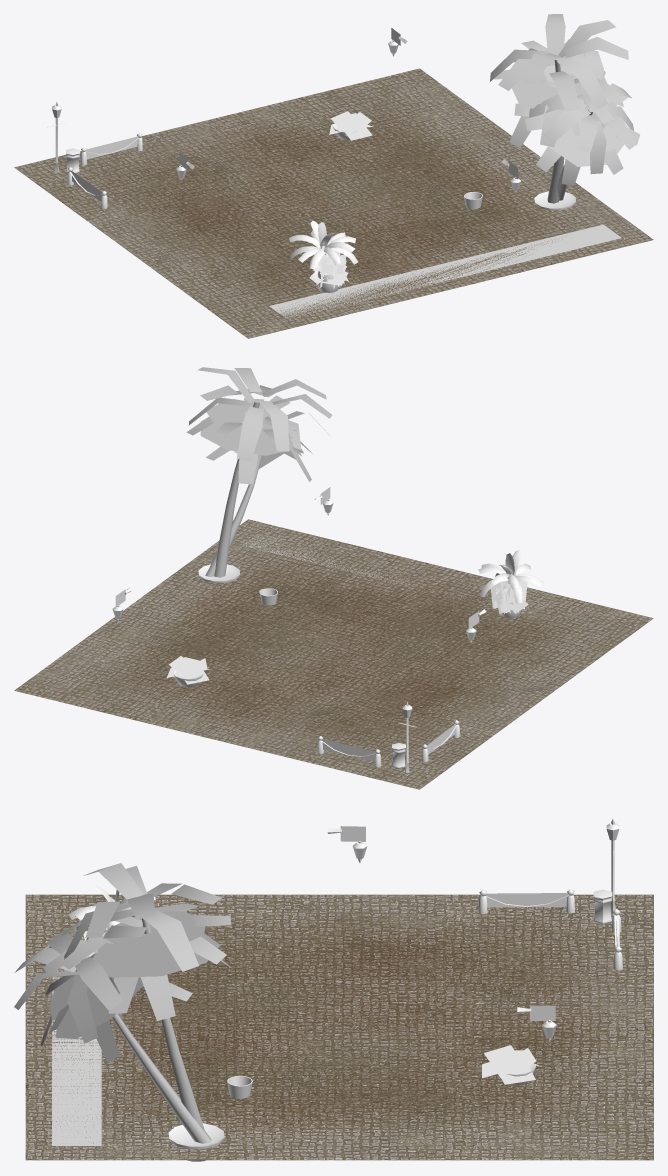
The model's file is propsonly_4.gltf.
3 renders of one model, top to bottom at view 1: azimuth 30°, elevation 25°; view 2: azimuth 150°, elevation 25°; view 3: azimuth 270°, elevation 25°, orthographic. The views are drawn at different scales.
Parts seen in each view (by area): view 1: ground.018, prop_tree1.014, prop_tree1.015, FeedbackBlocker.048, prop_treepot_tree1.008, prop_pot_flower1.013, prop_treepot_bush1.008, prop_chain_fence1.020, prop_chain_fence1.022, prop_pot1.027; view 2: ground.018, prop_tree1.014, prop_tree1.015, prop_treepot_tree1.008, prop_treepot_bush1.008, prop_pot_flower1.013, prop_chain_fence1.020; view 3: ground.018, prop_tree1.014, prop_tree1.015, FeedbackBlocker.048, prop_pot_flower1.013, prop_chain_fence1.022, prop_pot1.027, prop_lamp1.030, prop_lamp1.028, prop_trash1.008, prop_basket1.006, prop_treepot_tree1.008.
Boxes of the visible parts, box(x1,y1,x2,y2) form: ground.018: box(14, 68, 653, 338); prop_tree1.014: box(490, 14, 628, 203); prop_tree1.015: box(514, 50, 640, 200); FeedbackBlocker.048: box(269, 224, 621, 318); prop_treepot_tree1.008: box(289, 220, 358, 269); prop_pot_flower1.013: box(329, 111, 373, 140); prop_treepot_bush1.008: box(309, 252, 348, 288); prop_chain_fence1.020: box(80, 133, 142, 165); prop_chain_fence1.022: box(67, 167, 107, 208); prop_pot1.027: box(534, 191, 576, 210); ground.018: box(14, 519, 653, 789); prop_tree1.014: box(186, 367, 332, 577); prop_tree1.015: box(205, 389, 329, 576); prop_treepot_tree1.008: box(478, 550, 543, 603); prop_treepot_bush1.008: box(491, 580, 528, 614); prop_pot_flower1.013: box(166, 656, 209, 684); prop_chain_fence1.020: box(317, 736, 381, 767); ground.018: box(25, 894, 653, 1160); prop_tree1.014: box(43, 863, 232, 1129); prop_tree1.015: box(14, 909, 211, 1143); FeedbackBlocker.048: box(52, 929, 101, 1145); prop_pot_flower1.013: box(482, 1045, 538, 1084); prop_chain_fence1.022: box(478, 889, 574, 914); prop_pot1.027: box(168, 1123, 224, 1161); prop_lamp1.030: box(517, 1005, 556, 1042); prop_lamp1.028: box(327, 826, 367, 862); prop_trash1.008: box(593, 889, 612, 924); prop_basket1.006: box(227, 1075, 252, 1098); prop_treepot_tree1.008: box(68, 884, 155, 928).
Size of what is drawn, in the model's own units: 3.38 by 1.54 by 3.36.
